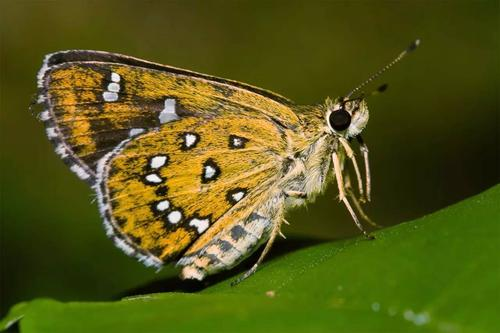Hesperiidae: (33, 36, 422, 284)
